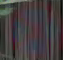No Stopping: (6, 3, 56, 51)
